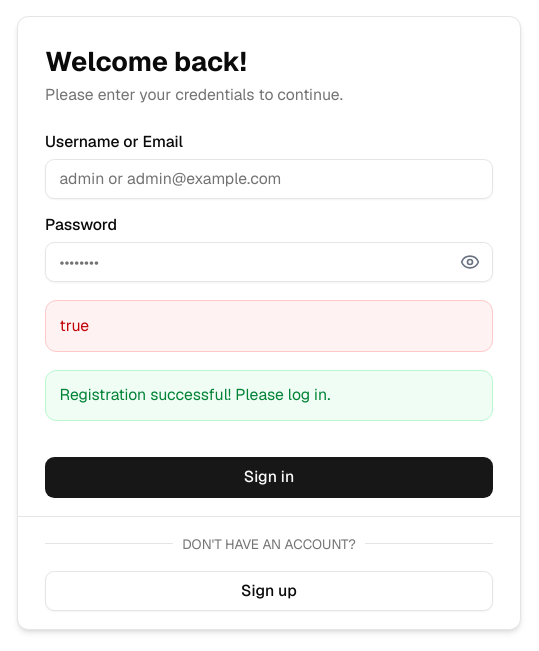
LoginForm › should display verification error message
The image size is (539, 651).
Type "unverified" into the field labelled "Username or Email" at (269, 179), box [45, 158, 493, 199]
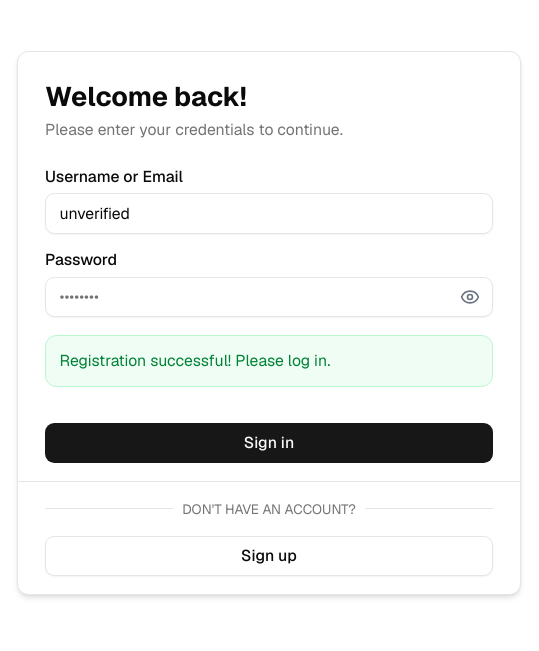
Type "password" into the password field labelled "Password" at (269, 297), box [45, 276, 493, 317]
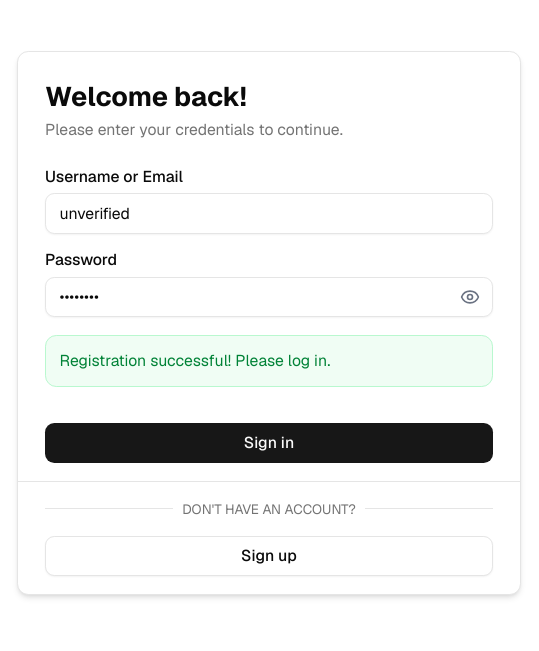
Click the button "Sign in" at (269, 443), box [45, 422, 493, 463]
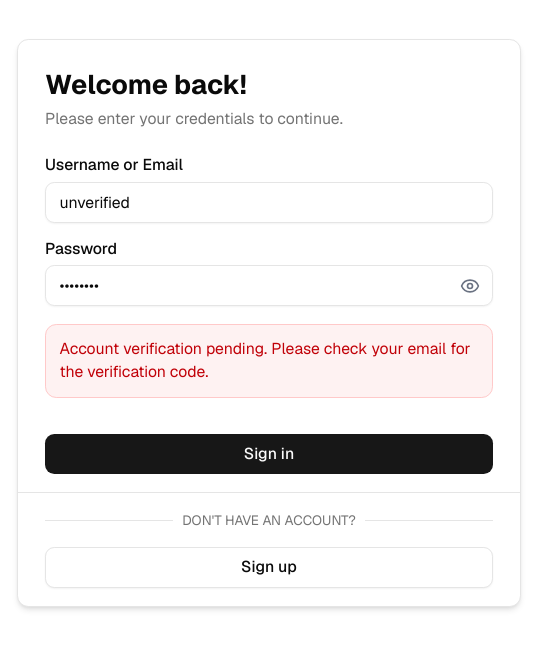
Expected: the text "Account verification pending" is shown, [60, 338, 470, 382]
